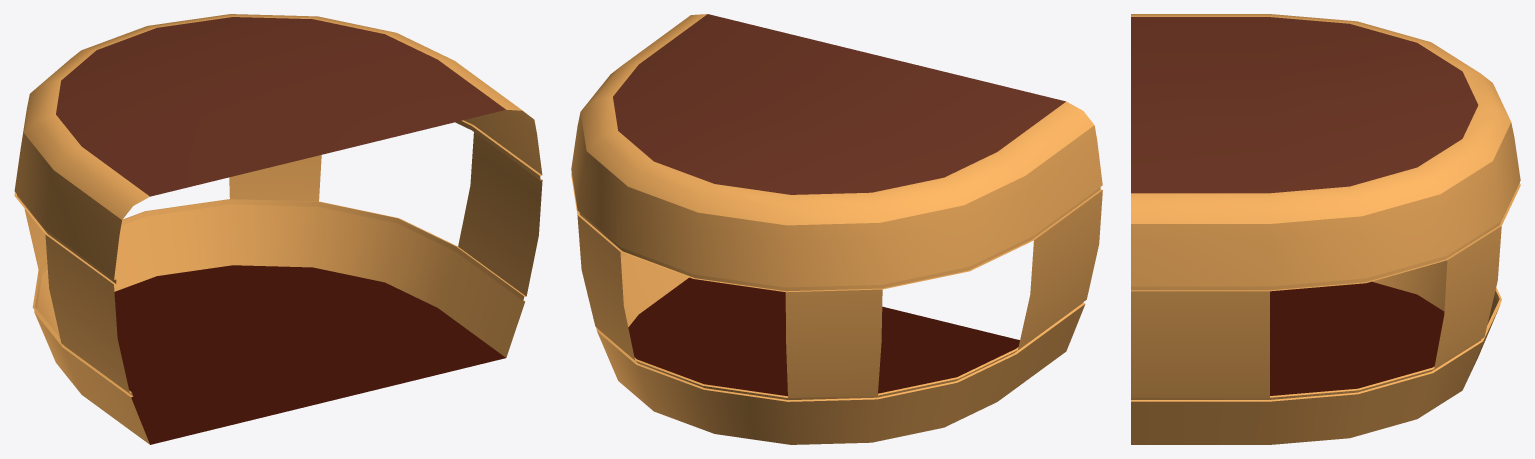
The model's file is Modular_Extremity_Closed.fbx.
The picture shows the model from 3 angles, left to right: view 1: azimuth 30°, elevation 25°; view 2: azimuth 150°, elevation 25°; view 3: azimuth 270°, elevation 25°; orthographic projection.
Visible parts, largest first — view 1: Modular_Extremity_Closed; view 2: Modular_Extremity_Closed; view 3: Modular_Extremity_Closed.
Part boxes in pixels (x1=…): Modular_Extremity_Closed: x1=14, y1=14, x2=542, y2=444; Modular_Extremity_Closed: x1=571, y1=14, x2=1102, y2=444; Modular_Extremity_Closed: x1=1131, y1=14, x2=1520, y2=444.
Size of the model in its own units: 542 by 300 by 421.
